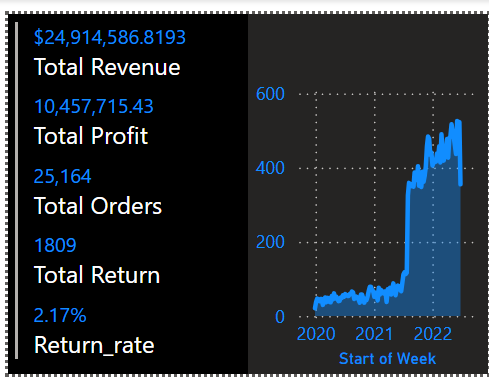

The page's visual inventory and layout, read from the dashboard file:
{"tool":"powerbi","page":{"name":"Tooltip","canvas":[320,240],"ordinal":7},"visuals":[{"type":"multiRowCard","fields":{"Values":["Measure Table.Total Revenue","Measure Table.Total Profit","Measure Table.Total Orders","Measure Table.Total Return","Measure Table.Return_rate"]},"box":[0,0,160,240],"z":1000},{"type":"areaChart","fields":{"Category":["Calendar Lookup.Start of Week"],"Y":["Measure Table.Total Orders"]},"box":[160,0,160,240],"z":1500}]}

Visuals, with their boxes on the page's 320x240 design canvas (x1, y1, x2, y2). These are canvas units, not pixel positions in the 489x383 screenshot, which may show the page scaled, cropped or inside an application window:
multiRowCard - Measure Table.Total Revenue x Measure Table.Total Profit: crop(0, 0, 160, 240)
areaChart - Calendar Lookup.Start of Week x Measure Table.Total Orders: crop(160, 0, 320, 240)
